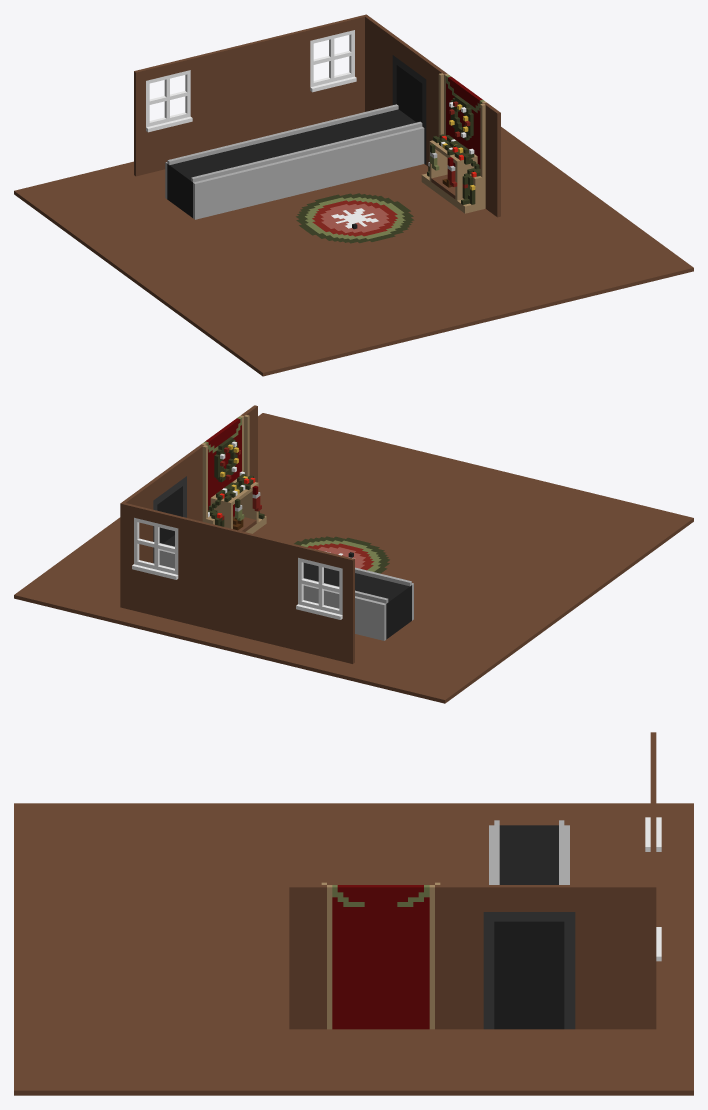
Rendered from modelHouse.obj.
3 renders of one model, top to bottom at view 1: azimuth 30°, elevation 25°; view 2: azimuth 150°, elevation 25°; view 3: azimuth 270°, elevation 25°, orthographic. The views are drawn at different scales.
Parts seen in each view (by area): view 1: modelHouse; view 2: modelHouse; view 3: modelHouse.
Boxes of the visible parts, x1=… form: modelHouse: x1=14, y1=14, x2=693, y2=376; modelHouse: x1=14, y1=405, x2=693, y2=703; modelHouse: x1=14, y1=732, x2=693, y2=1095.
Size of the model in its own units: 126 by 30 by 126.
1 material, 1 textured.
